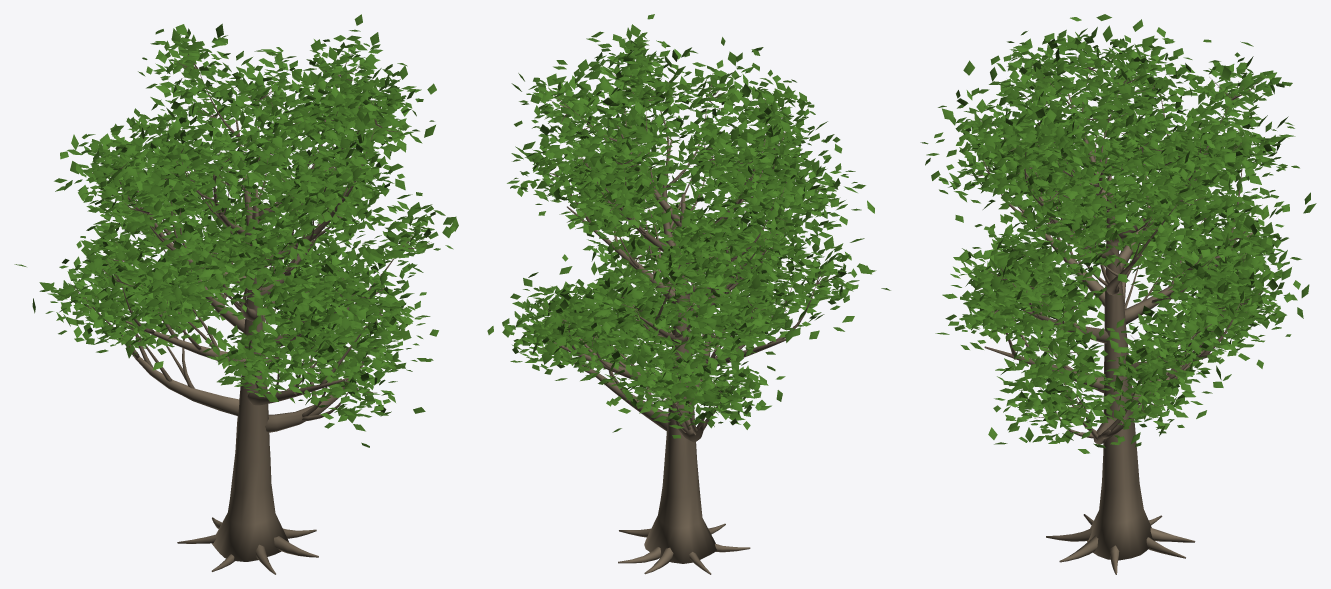
File: broadleaf_mature_static.glb
The picture shows the model from 3 angles, left to right: view 1: azimuth 30°, elevation 25°; view 2: azimuth 150°, elevation 25°; view 3: azimuth 270°, elevation 25°; orthographic projection. The views are drawn at different scales.
Visible parts, largest first — view 1: broadleaf_mature_leaves.008, broadleaf_mature_bark.008; view 2: broadleaf_mature_leaves.008, broadleaf_mature_bark.008; view 3: broadleaf_mature_leaves.008, broadleaf_mature_bark.008.
Part boxes in pixels (<box>): broadleaf_mature_leaves.008: <box>14,14,458,447</box>; broadleaf_mature_bark.008: <box>70,53,431,574</box>; broadleaf_mature_leaves.008: <box>487,14,890,438</box>; broadleaf_mature_bark.008: <box>541,71,839,574</box>; broadleaf_mature_leaves.008: <box>920,14,1316,453</box>; broadleaf_mature_bark.008: <box>969,54,1272,574</box>.
Bounding box in the file's own units: 14.77 × 17.47 × 12.63.
